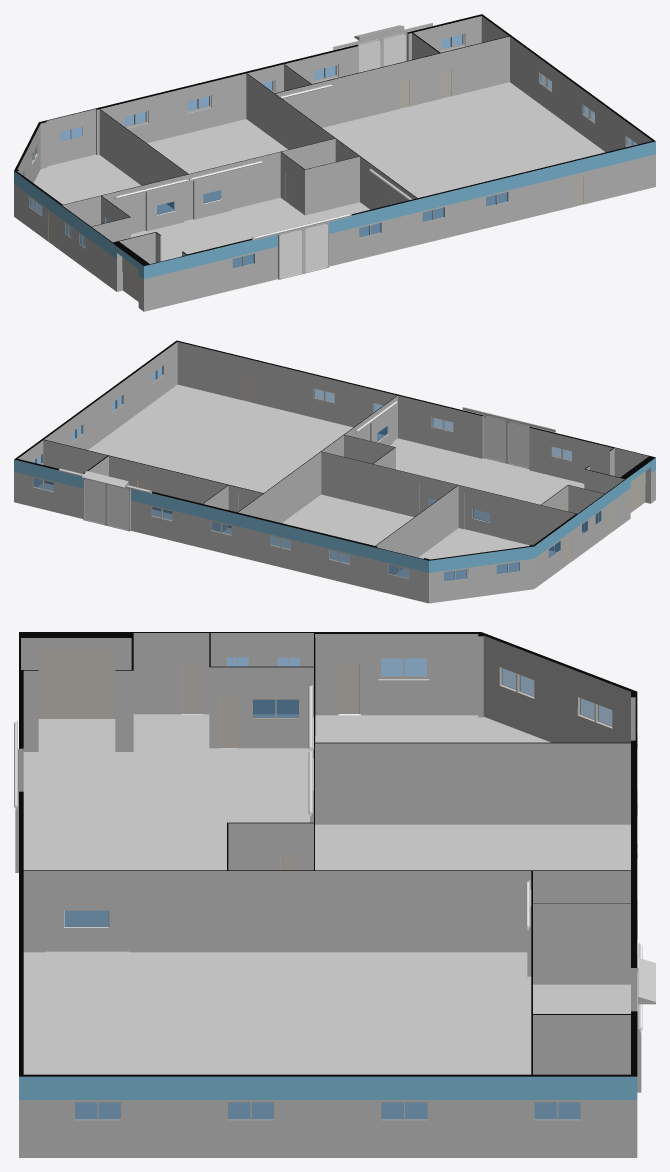
3 renders of one model, top to bottom at view 1: azimuth 30°, elevation 25°; view 2: azimuth 150°, elevation 25°; view 3: azimuth 270°, elevation 25°, orthographic. The views are drawn at different scales.
Visible parts, largest first — view 1: V4동_1F_벽, V4동_1F_바닥, V4동_1F_양개문, V4동_1F_슬라이딩도어, V4동_1F_창문, V4동_1F_방화문, V4동_1F_화물용승강기; view 2: V4동_1F_벽, V4동_1F_바닥, V4동_1F_양개문, V4동_1F_창문, V4동_1F_슬라이딩도어, V4동_1F_방화문, V4동_1F_화물용승강기; view 3: V4동_1F_벽, V4동_1F_바닥, V4동_1F_창문, V4동_1F_슬라이딩도어, V4동_1F_화물용승강기, V4동_1F_방화문, V4동_1F_양개문.
Boxes of the visible parts, <box> form: V4동_1F_벽: <box>14,14,655,311</box>; V4동_1F_바닥: <box>31,82,605,267</box>; V4동_1F_양개문: <box>252,23,432,279</box>; V4동_1F_슬라이딩도어: <box>114,84,412,231</box>; V4동_1F_창문: <box>21,33,638,270</box>; V4동_1F_방화문: <box>48,67,584,278</box>; V4동_1F_화물용승강기: <box>122,257,138,301</box>; V4동_1F_벽: <box>14,340,655,603</box>; V4동_1F_바닥: <box>38,384,584,580</box>; V4동_1F_양개문: <box>59,407,555,531</box>; V4동_1F_창문: <box>30,363,601,583</box>; V4동_1F_슬라이딩도어: <box>239,400,498,537</box>; V4동_1F_방화문: <box>136,373,613,565</box>; V4동_1F_화물용승강기: <box>630,471,645,512</box>; V4동_1F_벽: <box>19,632,637,1157</box>; V4동_1F_바닥: <box>23,714,630,1118</box>; V4동_1F_창문: <box>72,656,637,1122</box>; V4동_1F_슬라이딩도어: <box>45,685,531,976</box>; V4동_1F_화물용승강기: <box>38,649,115,718</box>; V4동_1F_방화문: <box>181,663,360,870</box>; V4동_1F_양개문: <box>14,720,655,1092</box>.
Bounding box in the file's own units: 41.08 × 4.03 × 25.07.
